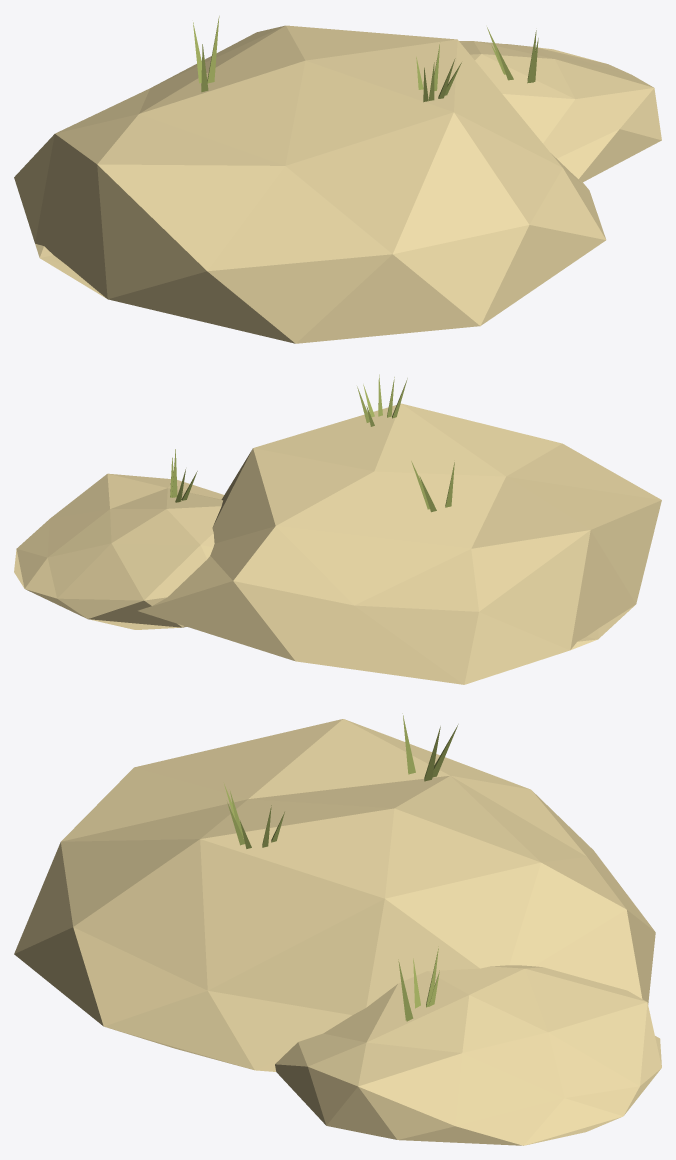
File: SandDuneA.fbx
The picture shows the model from 3 angles, top to bottom: view 1: azimuth 30°, elevation 25°; view 2: azimuth 150°, elevation 25°; view 3: azimuth 270°, elevation 25°; orthographic projection. The views are drawn at different scales.
Parts seen in each view (by area): view 1: SandDuneA_Sand, SandDuneA_Grass; view 2: SandDuneA_Sand, SandDuneA_Grass; view 3: SandDuneA_Sand, SandDuneA_Grass.
Boxes of the visible parts, x1=… form: SandDuneA_Sand: x1=14, y1=25, x2=661, y2=343; SandDuneA_Grass: x1=193, y1=16, x2=538, y2=102; SandDuneA_Sand: x1=14, y1=403, x2=661, y2=684; SandDuneA_Grass: x1=170, y1=374, x2=454, y2=512; SandDuneA_Sand: x1=14, y1=719, x2=661, y2=1145; SandDuneA_Grass: x1=224, y1=713, x2=458, y2=1021.
Bounding box in the file's own units: 33.38 × 9.26 × 27.68.
